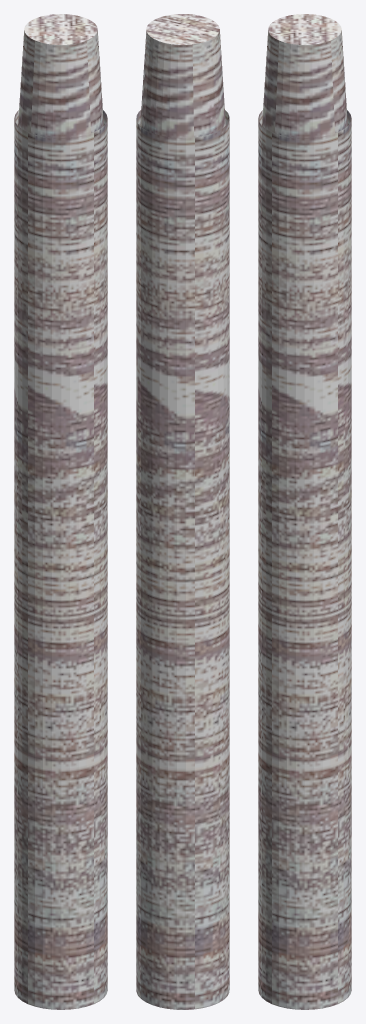
File: pick aud handle.obj
3 views of the same model, side by side, from view 1: azimuth 90°, elevation 25°; view 2: azimuth 150°, elevation 25°; view 3: azimuth 270°, elevation 25° (orthographic).
Visible parts, largest first — view 1: Handle1; view 2: Handle1; view 3: Handle1.
Boxes of the visible parts, x1,y1,x2,y2 form: Handle1: (14,14,107,1009); Handle1: (136,14,229,1009); Handle1: (258,14,351,1009).
Size of the model in its own units: 0.283 by 3.21 by 0.283.
